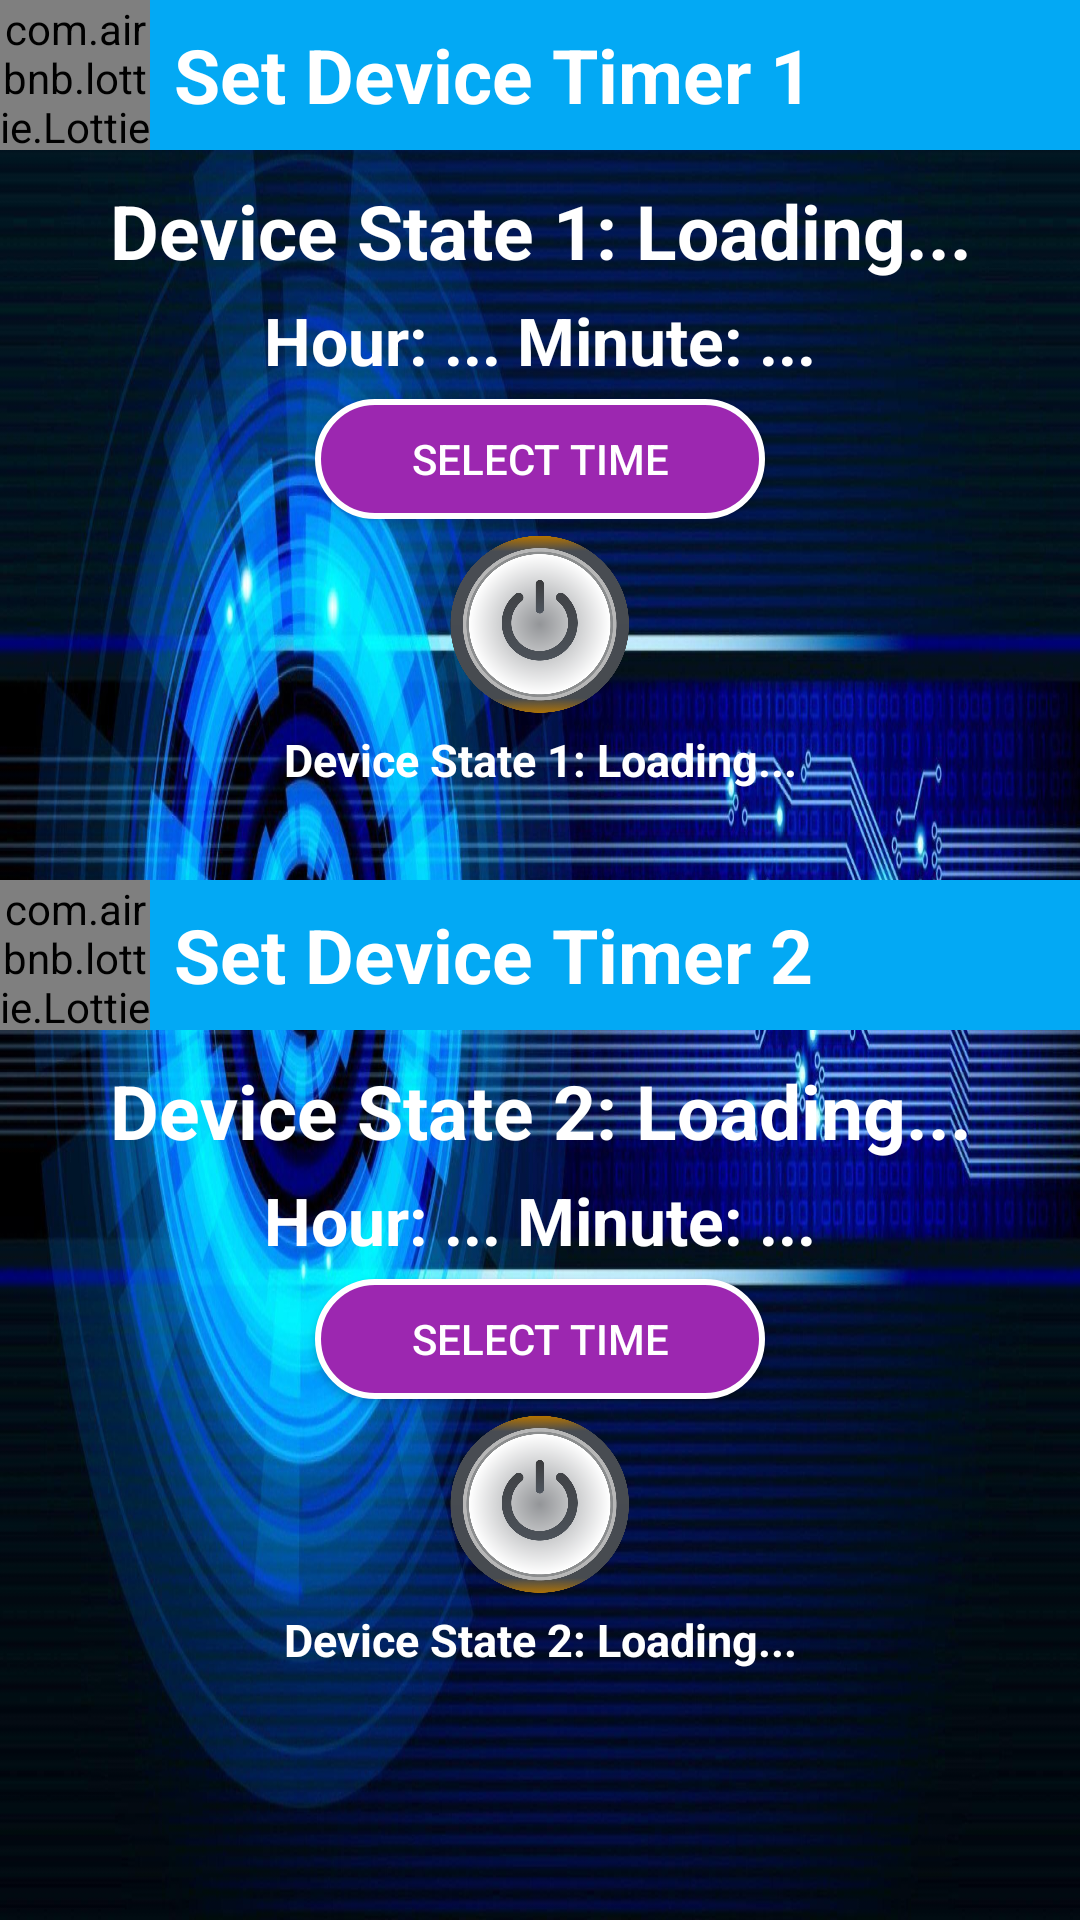

Icons on this 1080*1920 Android screen, each with the point to tap as [x,y]:
toggle: [540,624], [540,1504]
